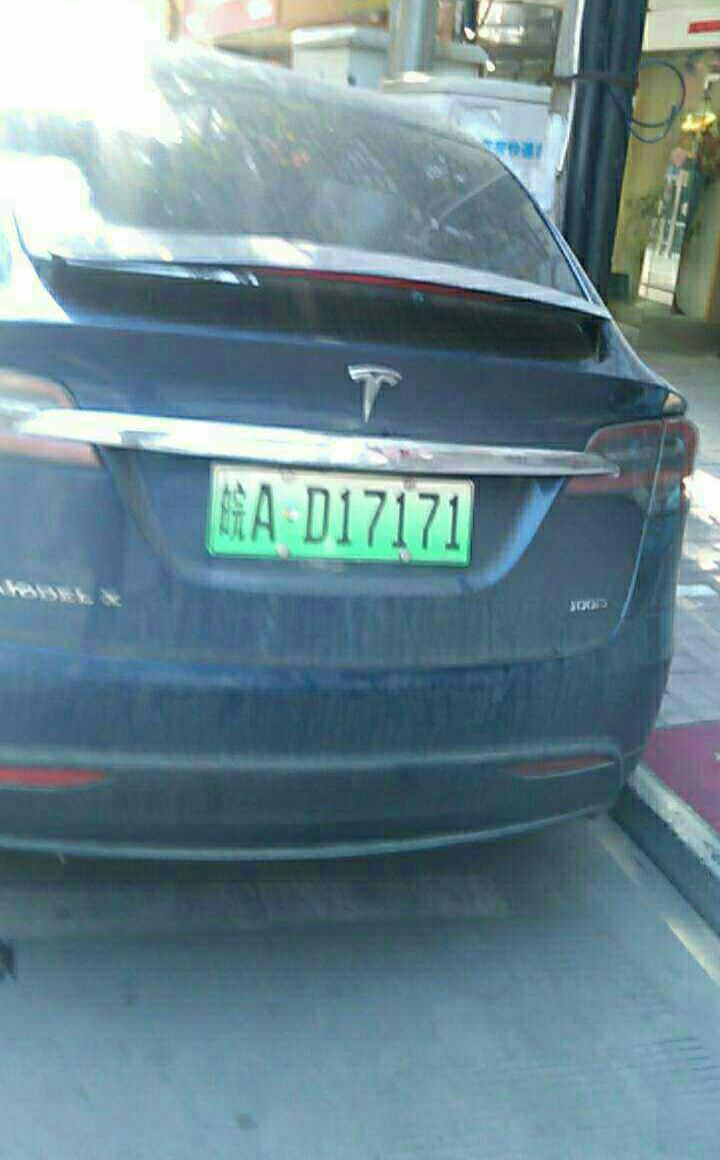car_id: (205, 467, 475, 565)
